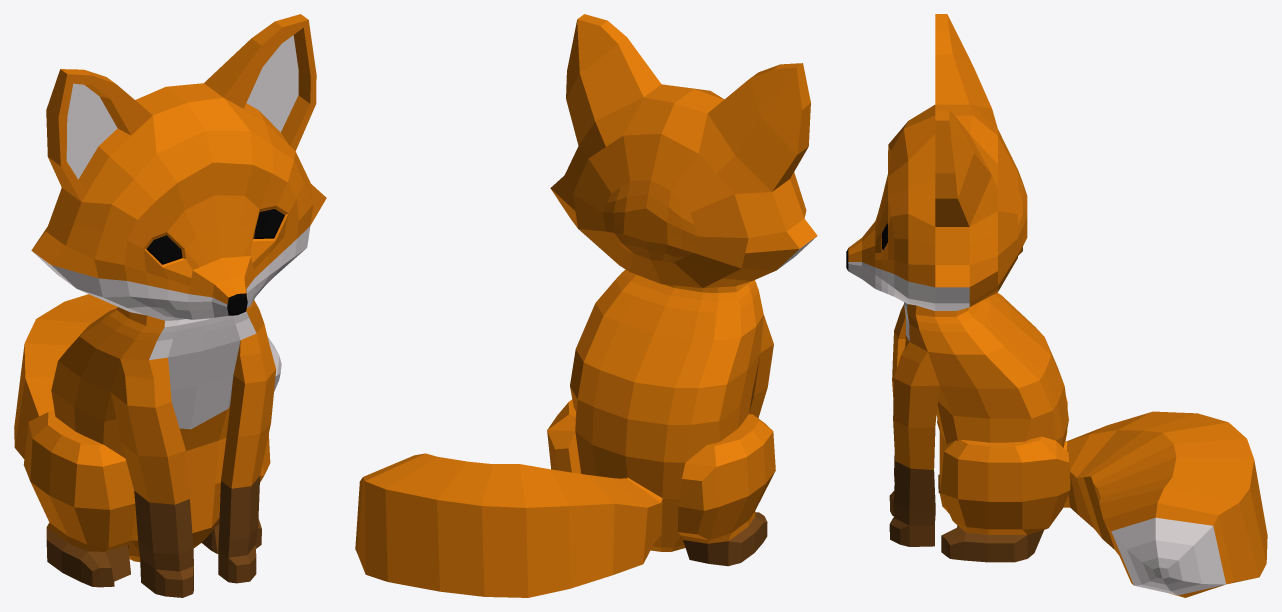
The model's file is fox.glb.
The picture shows the model from 3 angles, left to right: view 1: azimuth 30°, elevation 25°; view 2: azimuth 150°, elevation 25°; view 3: azimuth 270°, elevation 25°; orthographic projection. The views are drawn at different scales.
Visible parts, largest first — view 1: Cube; view 2: Cube; view 3: Cube.
Boxes of the visible parts, bbox=[...] form: Cube: bbox=[14, 14, 326, 597]; Cube: bbox=[355, 14, 817, 597]; Cube: bbox=[846, 14, 1267, 597].
Bounding box in the file's own units: 4.87 × 6.77 × 5.62.
